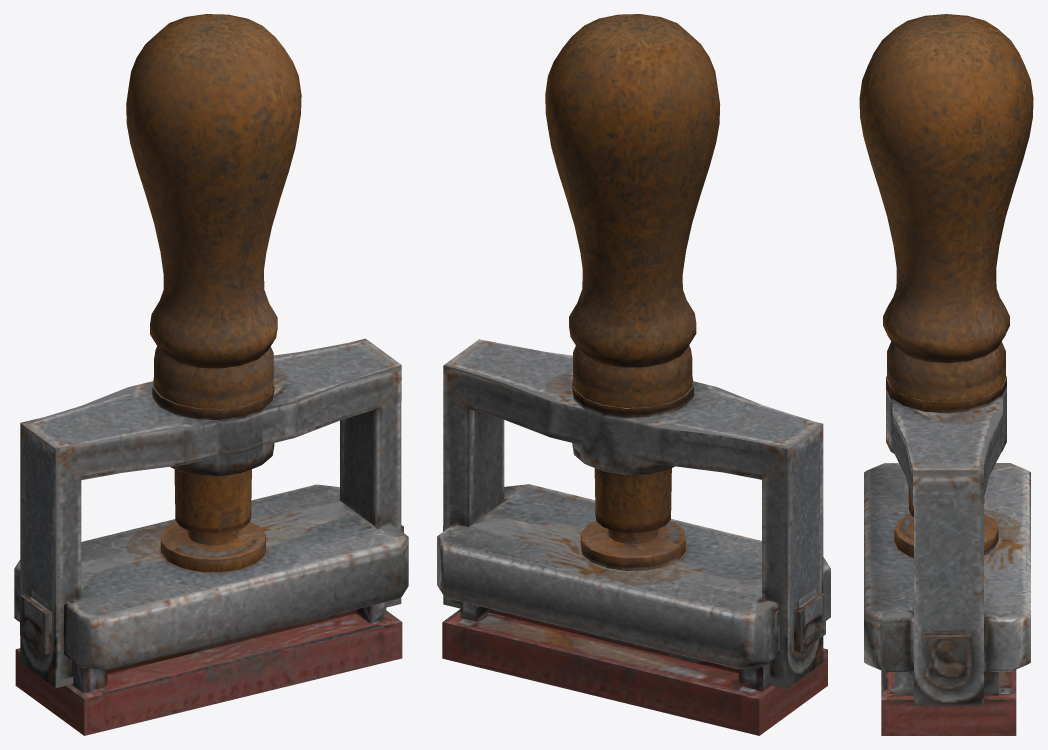
File: DateStamp.fbx
3 renders of one model, left to right at view 1: azimuth 30°, elevation 25°; view 2: azimuth 150°, elevation 25°; view 3: azimuth 270°, elevation 25°, orthographic.
Visible parts, largest first — view 1: DateStamp_Low; view 2: DateStamp_Low; view 3: DateStamp_Low.
Boxes of the visible parts, x1,y1,x2,y2 form: DateStamp_Low: [14, 14, 408, 735]; DateStamp_Low: [437, 14, 830, 735]; DateStamp_Low: [859, 14, 1033, 735].
Bounding box in the file's own units: 0.195 × 0.3355 × 0.0834.
